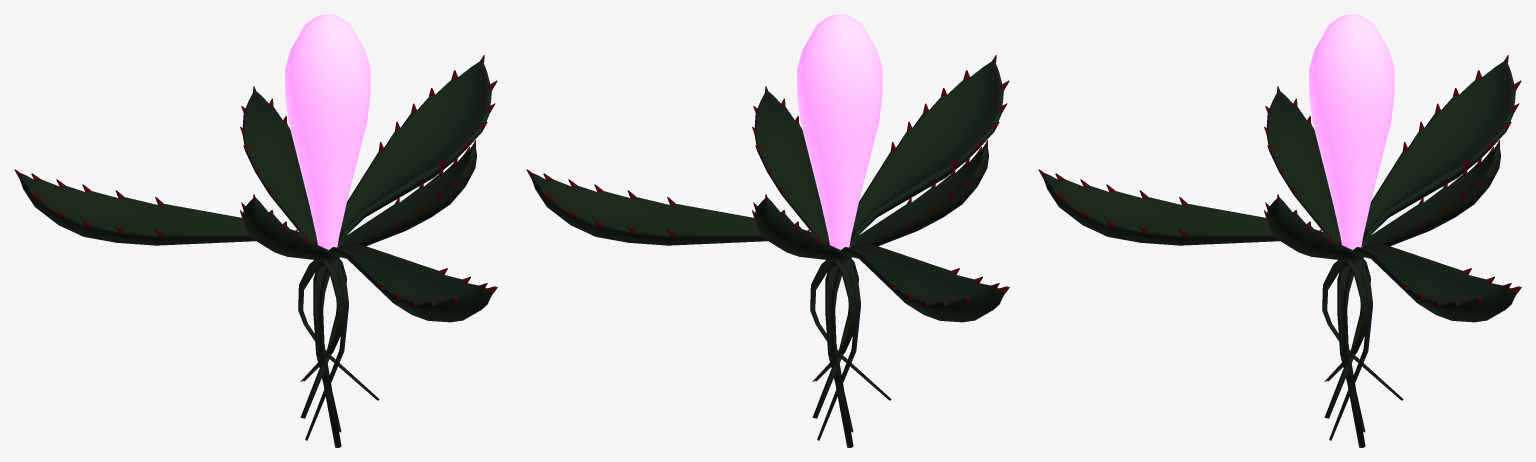
File: Plant_04_open_merged_UV.fbx
The picture shows the model from 3 angles, left to right: view 1: azimuth 30°, elevation 25°; view 2: azimuth 150°, elevation 25°; view 3: azimuth 270°, elevation 25°; orthographic projection.
Parts seen in each view (by area): view 1: Plant_04_open_merged_UV; view 2: Plant_04_open_merged_UV; view 3: Plant_04_open_merged_UV.
Boxes of the visible parts, x1,y1,x2,y2 form: Plant_04_open_merged_UV: (14, 14, 497, 447); Plant_04_open_merged_UV: (526, 14, 1009, 447); Plant_04_open_merged_UV: (1038, 14, 1521, 447).
Bounding box in the file's own units: 501 × 446 × 433.
